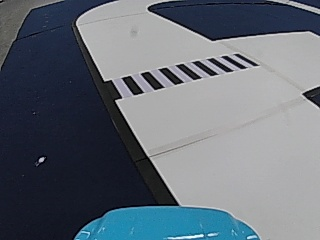CrossWalk: (107, 53, 254, 97)
